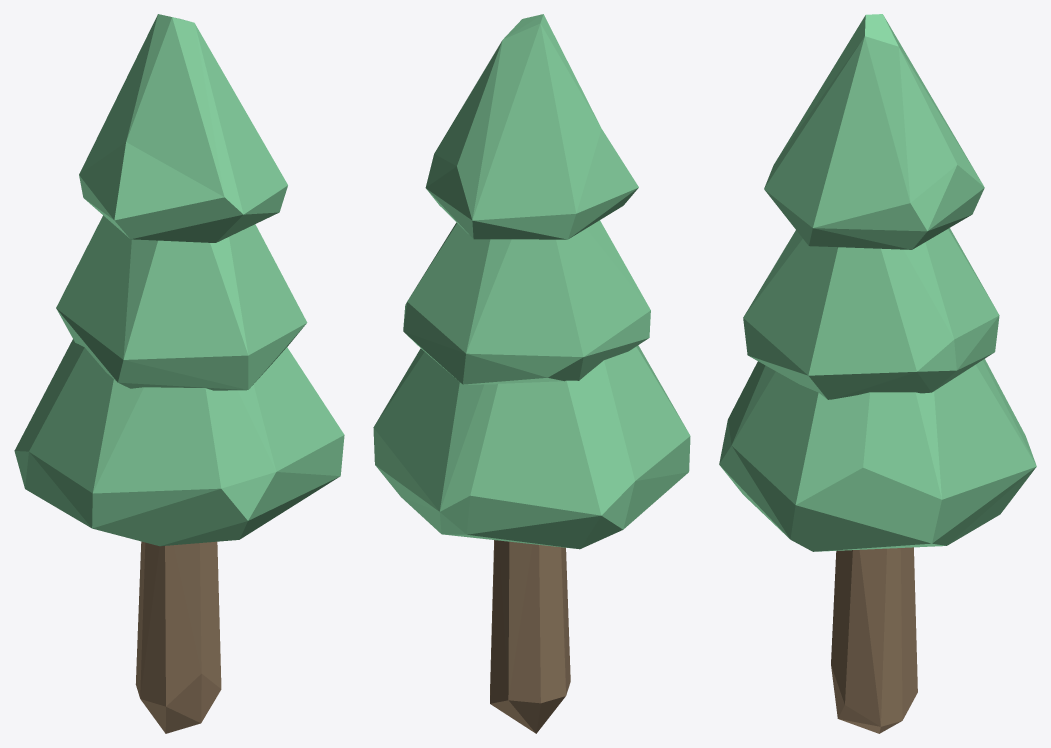
File: FirTree.fbx
3 renders of one model, left to right at view 1: azimuth 30°, elevation 25°; view 2: azimuth 150°, elevation 25°; view 3: azimuth 270°, elevation 25°, orthographic.
Parts seen in each view (by area): view 1: Cone; view 2: Cone; view 3: Cone.
Part boxes in pixels (bbox=[...]): Cone: bbox=[14, 14, 344, 733]; Cone: bbox=[373, 14, 690, 733]; Cone: bbox=[719, 14, 1036, 733].
Size of the model in its own units: 138 by 374 by 150.
